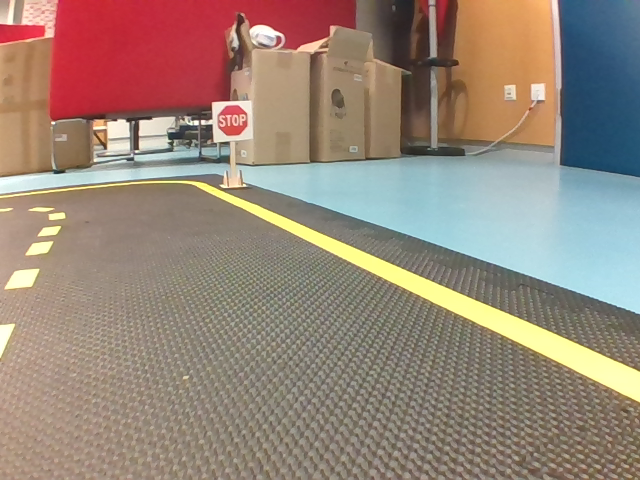stop: (213, 102, 253, 140)
